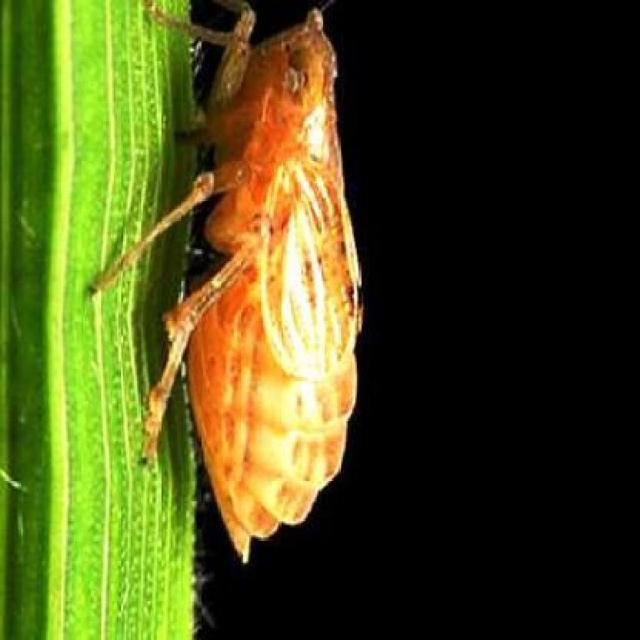brown-planthopper: (147, 12, 364, 568)
